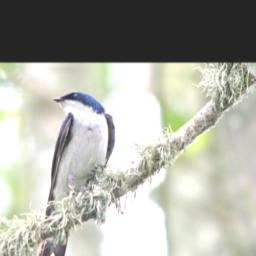Swallow: (34, 88, 120, 256)
